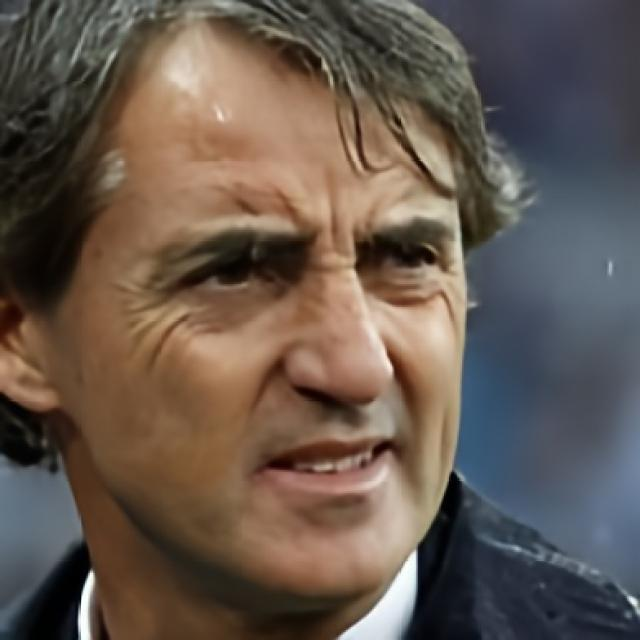disgust: (99, 19, 468, 600)
